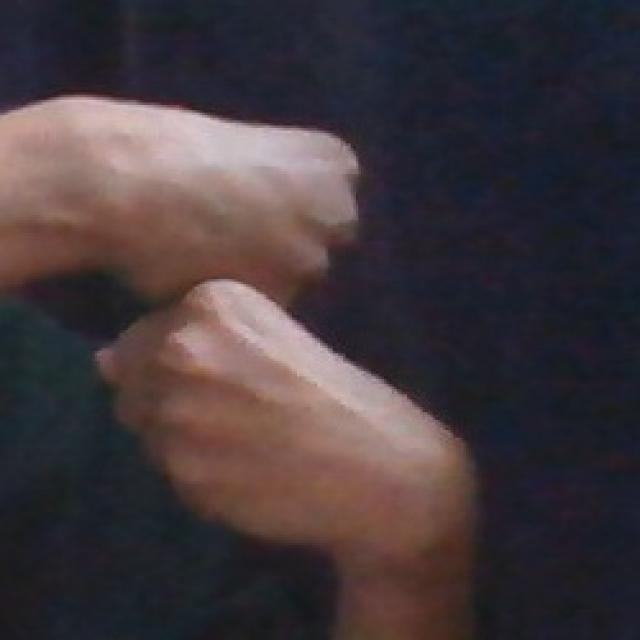Alphabet-g: (71, 62, 482, 564)
